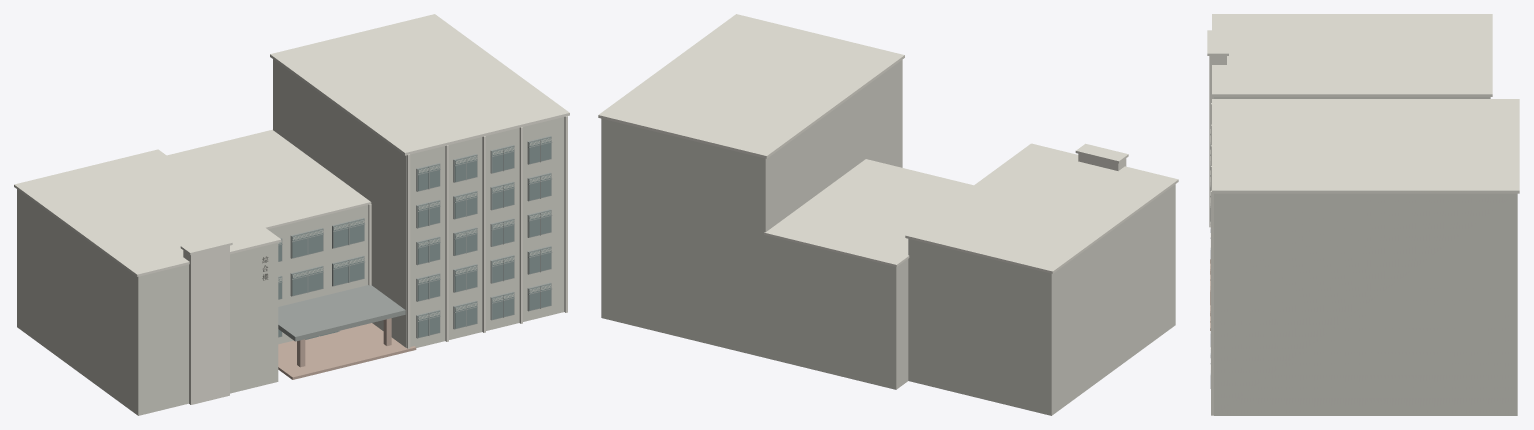
The picture shows the model from 3 angles, left to right: view 1: azimuth 30°, elevation 25°; view 2: azimuth 150°, elevation 25°; view 3: azimuth 270°, elevation 25°; orthographic projection. The views are drawn at different scales.
Parts seen in each view (by area): view 1: 综合办公楼 · Office ivory walls.001, 综合办公楼 · Office pale pilasters.001, 综合办公楼 · Office grey green glass.001, 综合办公楼 · Office aluminium.001, 综合办公楼 · Office entry stone.001, 综合办公楼 · Office canopy grey.001; view 2: 综合办公楼 · Office ivory walls.001, 综合办公楼 · Office pale pilasters.001; view 3: 综合办公楼 · Office ivory walls.001, 综合办公楼 · Office pale pilasters.001.
Part boxes in pixels (x1,y1,x2,y2): 综合办公楼 · Office ivory walls.001: [17, 59, 564, 415]; 综合办公楼 · Office pale pilasters.001: [14, 14, 569, 404]; 综合办公楼 · Office grey green glass.001: [278, 137, 551, 339]; 综合办公楼 · Office aluminium.001: [278, 136, 552, 338]; 综合办公楼 · Office entry stone.001: [278, 318, 416, 379]; 综合办公楼 · Office canopy grey.001: [278, 285, 405, 341]; 综合办公楼 · Office ivory walls.001: [601, 60, 1175, 415]; 综合办公楼 · Office pale pilasters.001: [598, 14, 1178, 273]; 综合办公楼 · Office ivory walls.001: [1214, 97, 1517, 415]; 综合办公楼 · Office pale pilasters.001: [1207, 14, 1519, 415].
Bounding box in the file's own units: 42 × 18.42 × 23.05.
